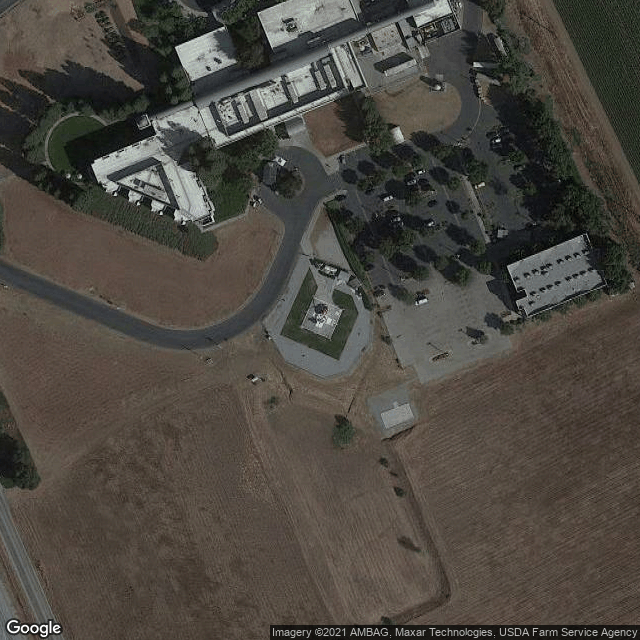Helipad: (298, 294, 345, 343)
